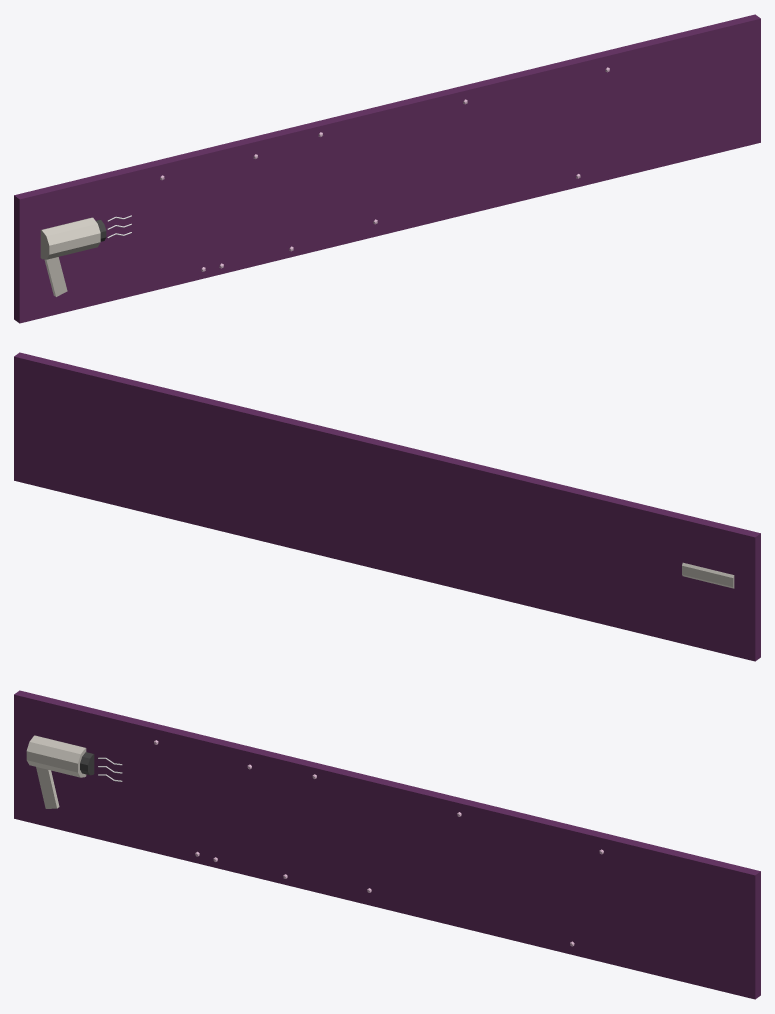
The model's file is bang_salon_toc_my_linh_48.glb.
3 views of the same model, one above another, from view 1: azimuth 30°, elevation 25°; view 2: azimuth 150°, elevation 25°; view 3: azimuth 330°, elevation 25° (orthographic).
Parts seen in each view (by area): view 1: bang_salon_toc_my_linh_48; view 2: bang_salon_toc_my_linh_48; view 3: bang_salon_toc_my_linh_48.
Boxes of the visible parts, <box> form: bang_salon_toc_my_linh_48: <box>14,14,760,323</box>; bang_salon_toc_my_linh_48: <box>14,352,760,661</box>; bang_salon_toc_my_linh_48: <box>14,690,760,999</box>.
Bounding box in the file's own units: 4.5 × 0.72 × 0.1598.
